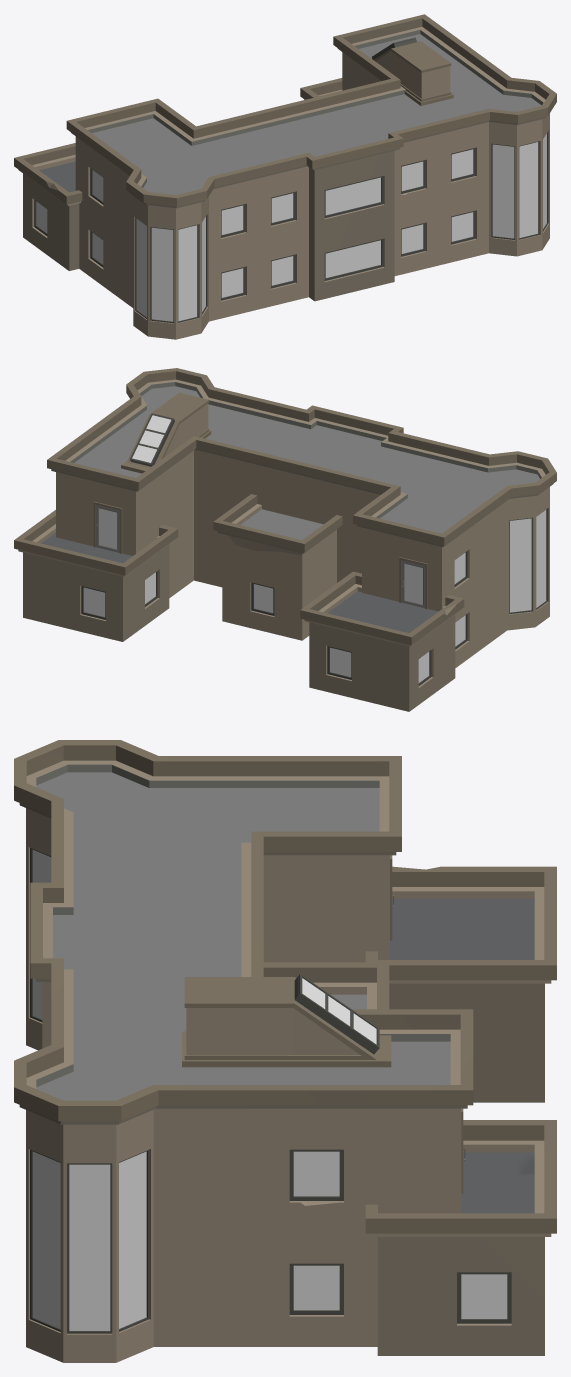
The model's file is SM_Bldg_City_Commercial_03_Roof.fbx.
3 renders of one model, top to bottom at view 1: azimuth 30°, elevation 25°; view 2: azimuth 150°, elevation 25°; view 3: azimuth 270°, elevation 25°, orthographic. The views are drawn at different scales.
Parts seen in each view (by area): view 1: SM_Bldg_City_Commercial_03_Roof, SM_Bldg_City_Commercial_03_Roof_Glass; view 2: SM_Bldg_City_Commercial_03_Roof, SM_Bldg_City_Commercial_03_Roof_Glass; view 3: SM_Bldg_City_Commercial_03_Roof, SM_Bldg_City_Commercial_03_Roof_Glass.
Part boxes in pixels (<box>): SM_Bldg_City_Commercial_03_Roof: <box>14,14,556,339</box>; SM_Bldg_City_Commercial_03_Roof_Glass: <box>36,133,546,321</box>; SM_Bldg_City_Commercial_03_Roof: <box>14,368,556,711</box>; SM_Bldg_City_Commercial_03_Roof_Glass: <box>83,510,546,682</box>; SM_Bldg_City_Commercial_03_Roof: <box>14,740,556,1362</box>; SM_Bldg_City_Commercial_03_Roof_Glass: <box>33,849,507,1330</box>.
Size of the model in its own units: 2067 by 814 by 1296.
